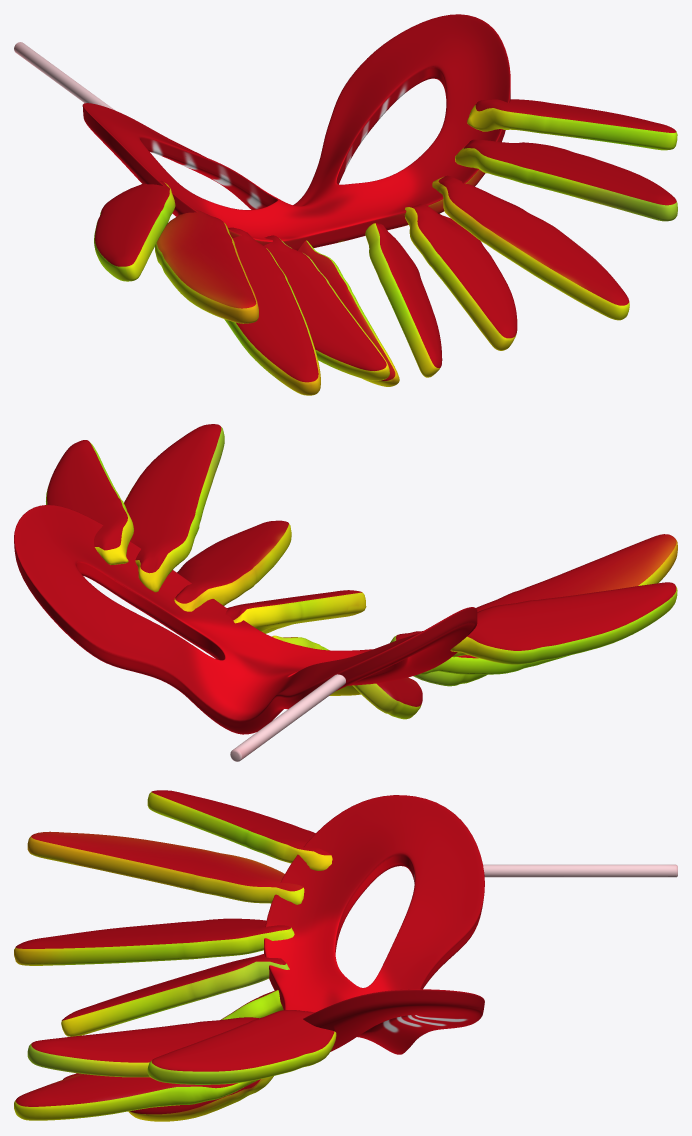
File: Mask.fbx
3 renders of one model, top to bottom at view 1: azimuth 30°, elevation 25°; view 2: azimuth 150°, elevation 25°; view 3: azimuth 270°, elevation 25°, orthographic. The views are drawn at different scales.
Parts seen in each view (by area): view 1: 18466_Simple_mask_on_a_stick_v1; view 2: 18466_Simple_mask_on_a_stick_v1; view 3: 18466_Simple_mask_on_a_stick_v1.
Boxes of the visible parts, x1=… form: 18466_Simple_mask_on_a_stick_v1: x1=14, y1=14, x2=677, y2=395; 18466_Simple_mask_on_a_stick_v1: x1=14, y1=424, x2=677, y2=761; 18466_Simple_mask_on_a_stick_v1: x1=14, y1=790, x2=677, y2=1121.
Size of the model in its own units: 1972 by 728 by 1991.
1 material, 1 textured.
